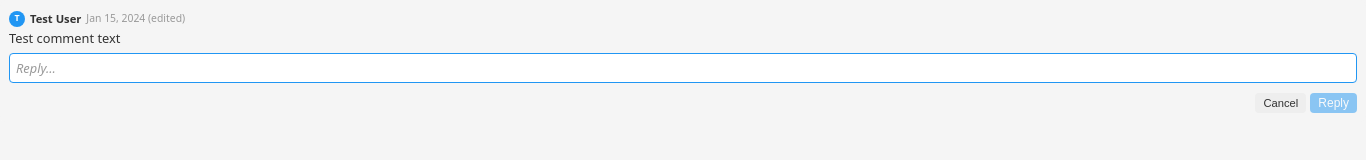
Test: CommentThread › reply functionality › hides reply form when Cancel is clicked
This screenshot has width=1366, height=160.
Earlier steps of the test are not shown.
Expected: the text box with placeholder "Reply..." is shown, top-left (9, 53), bottom-right (1357, 83)
Click the button "Cancel". click: [1281, 103]
box: top-left (1256, 93), bottom-right (1306, 113)
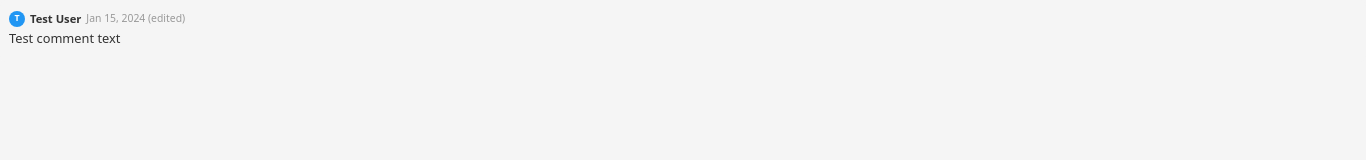
Expected: the text box with placeholder "Reply..." is gone
